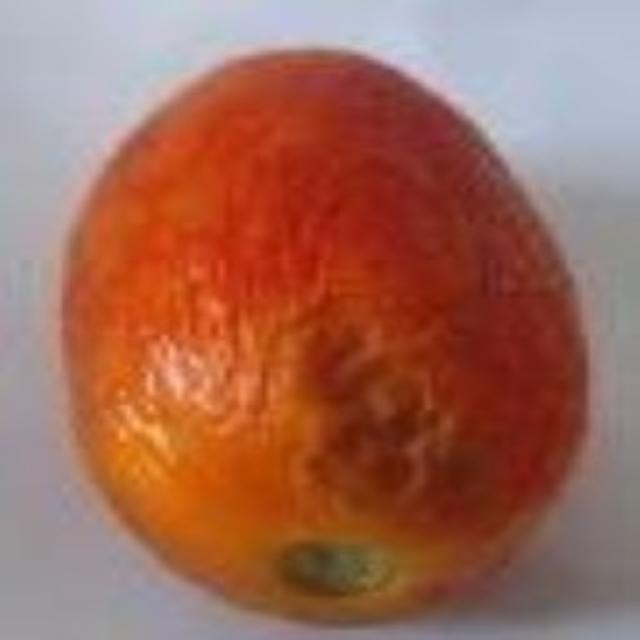defect: (47, 37, 590, 632)
